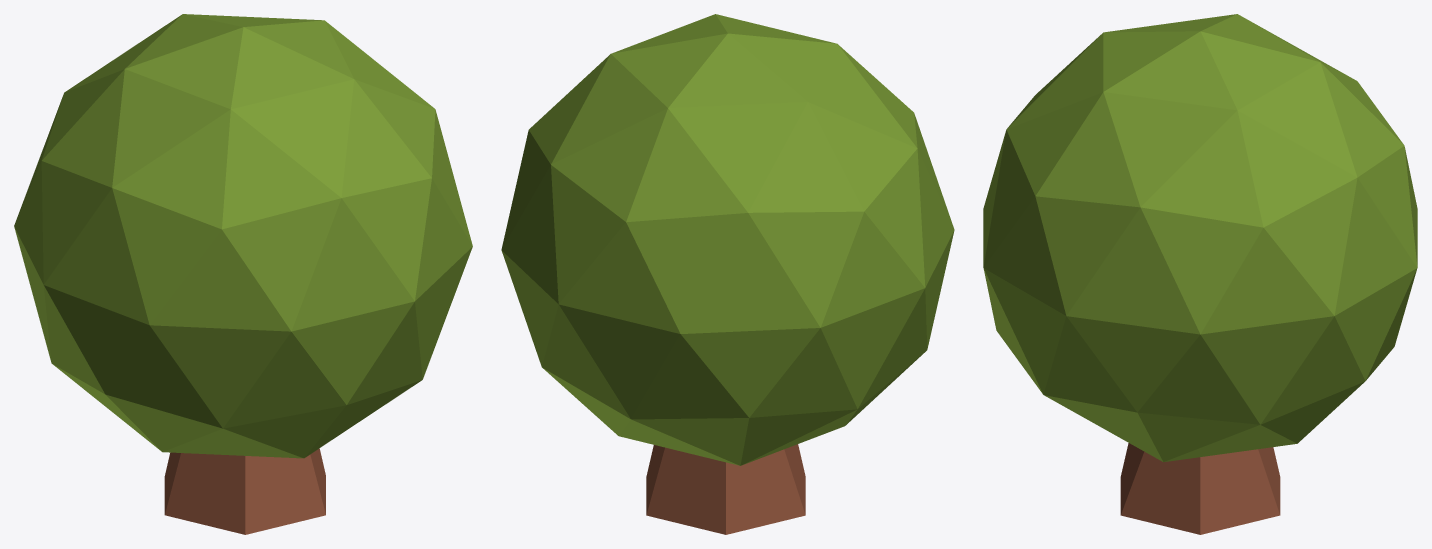
File: bush1.gltf
3 renders of one model, left to right at view 1: azimuth 30°, elevation 25°; view 2: azimuth 150°, elevation 25°; view 3: azimuth 270°, elevation 25°, orthographic.
Parts seen in each view (by area): view 1: bush_2_autumn_mat; view 2: bush_2_autumn_mat; view 3: bush_2_autumn_mat.
Boxes of the visible parts, x1=… form: bush_2_autumn_mat: x1=14, y1=14, x2=472, y2=534; bush_2_autumn_mat: x1=501, y1=14, x2=954, y2=534; bush_2_autumn_mat: x1=983, y1=14, x2=1417, y2=534.
Bounding box in the file's own units: 1.41 × 1.58 × 1.34.
